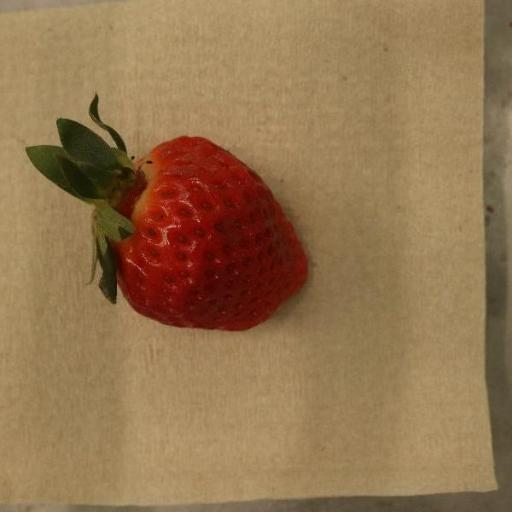Strawberry: (24, 97, 308, 332)
